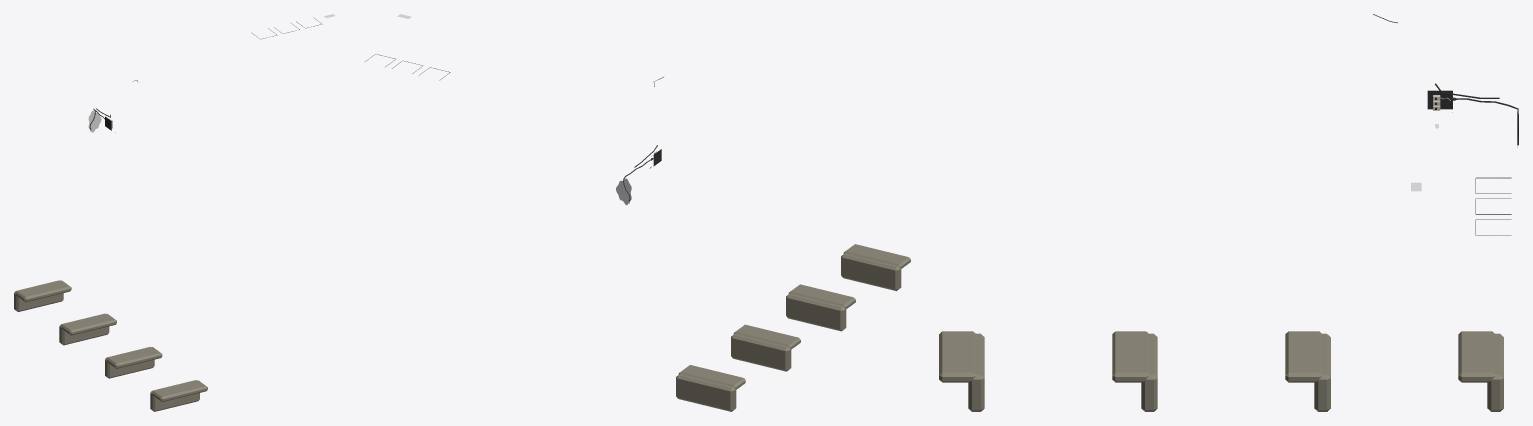
File: visual_other.glb
The picture shows the model from 3 angles, left to right: view 1: azimuth 30°, elevation 25°; view 2: azimuth 150°, elevation 25°; view 3: azimuth 270°, elevation 25°; orthographic projection. The views are drawn at different scales.
Visible parts, largest first — view 1: Apartment_Fabric; view 2: Apartment_Fabric; view 3: Apartment_Fabric, Apartment_HA_Rubber.001.
Boxes of the visible parts, left/top/right/bottom form: Apartment_Fabric: left=14, top=280, right=207, bottom=411; Apartment_Fabric: left=676, top=244, right=910, bottom=411; Apartment_Fabric: left=939, top=331, right=1503, bottom=411; Apartment_HA_Rubber.001: left=1373, top=14, right=1518, bottom=235.
Bounding box in the file's own units: 12.09 × 9.15 × 10.55.
